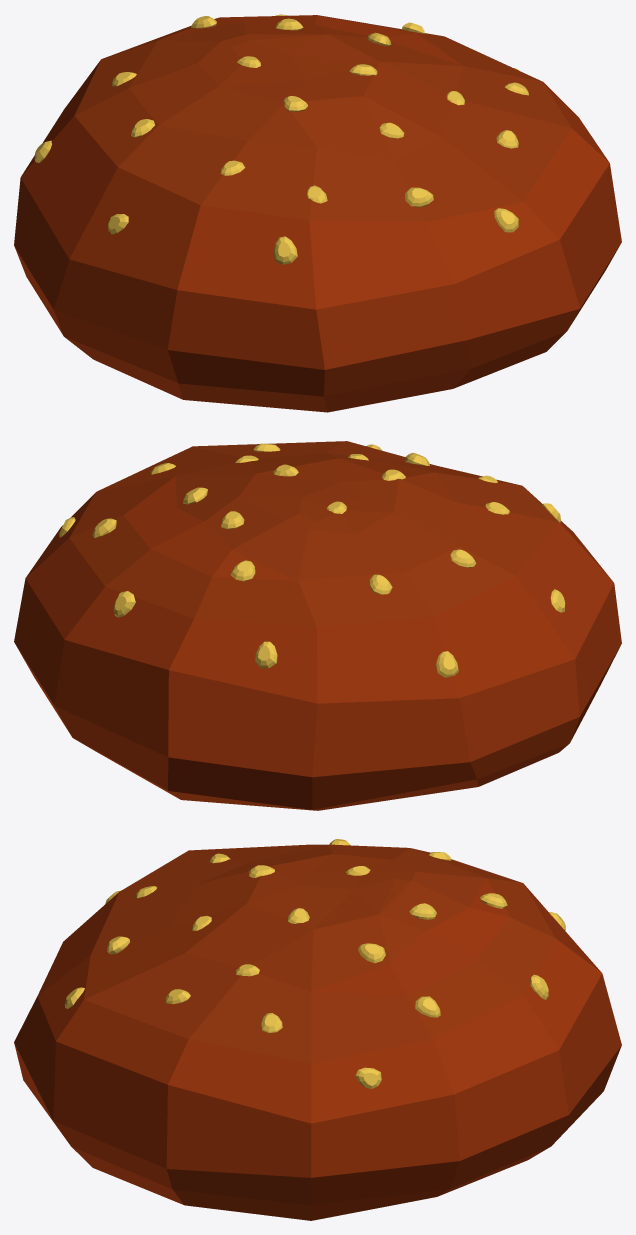
The model's file is bread_one.fbx.
3 views of the same model, one above another, from view 1: azimuth 30°, elevation 25°; view 2: azimuth 150°, elevation 25°; view 3: azimuth 270°, elevation 25° (orthographic). The views are drawn at different scales.
Visible parts, largest first — view 1: Cylinder021; view 2: Cylinder021; view 3: Cylinder021.
Boxes of the visible parts, x1,y1,x2,y2 form: Cylinder021: [14, 15, 621, 412]; Cylinder021: [14, 441, 621, 810]; Cylinder021: [14, 844, 621, 1220].
Bounding box in the file's own units: 2.97 × 1.33 × 3.03.
